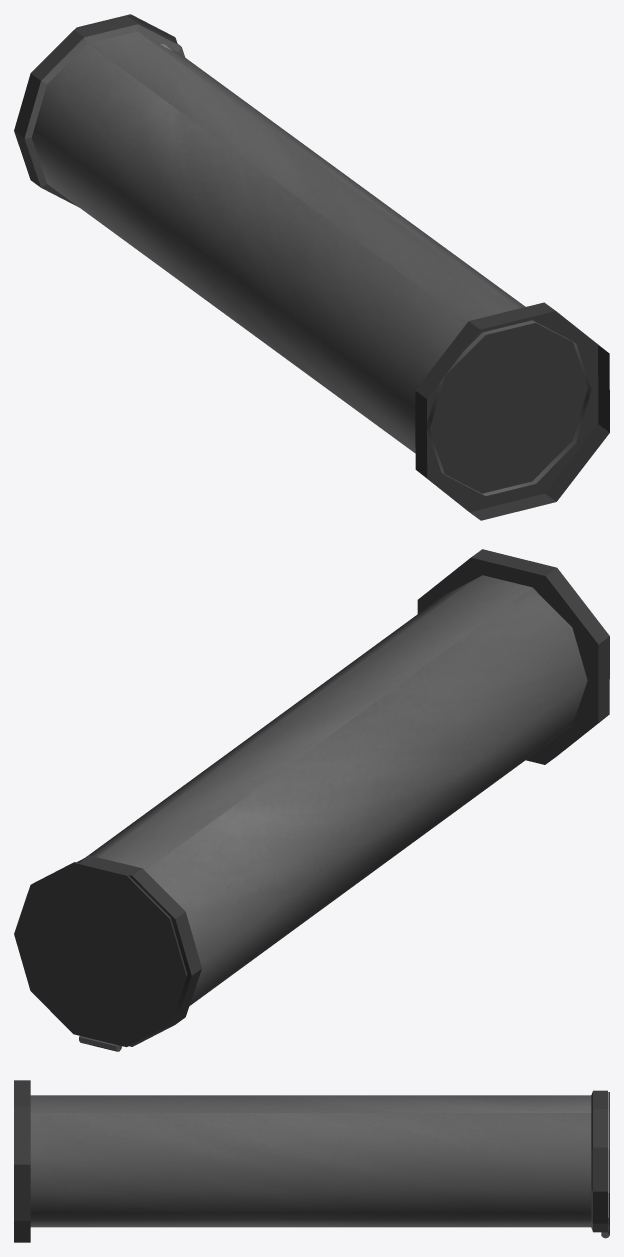
The model's file is pipe wires V1.5.fbx.
The picture shows the model from 3 angles, top to bottom: view 1: azimuth 30°, elevation 25°; view 2: azimuth 150°, elevation 25°; view 3: azimuth 270°, elevation 25°; orthographic projection. The views are drawn at different scales.
Visible parts, largest first — view 1: pipe__connection; view 2: pipe__connection, hatch; view 3: pipe__connection, hatch.
Boxes of the visible parts, x1,y1,x2,y2 form: pipe__connection: [14, 16, 609, 520]; pipe__connection: [77, 549, 609, 1046]; hatch: [14, 862, 187, 1047]; pipe__connection: [14, 1080, 607, 1242]; hatch: [608, 1092, 609, 1233].
Size of the model in its own units: 33.04 by 32.99 by 131.
Materials: 4 (1 with a texture image).
